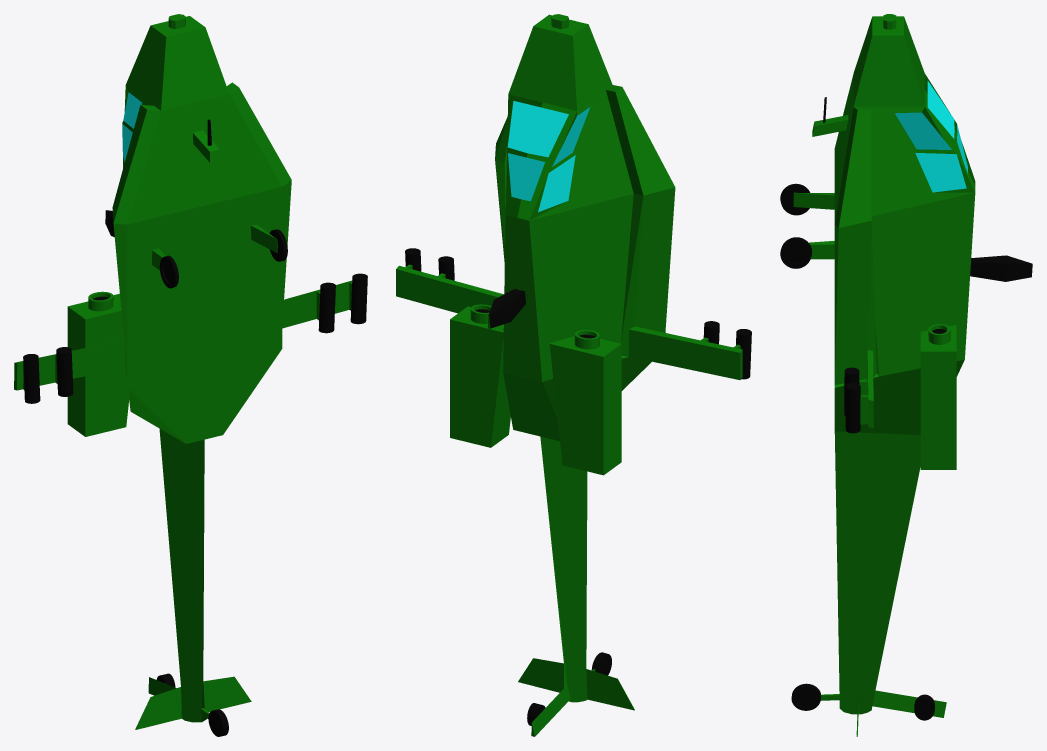
Rendered from Helicopter.fbx.
3 views of the same model, side by side, from view 1: azimuth 30°, elevation 25°; view 2: azimuth 150°, elevation 25°; view 3: azimuth 270°, elevation 25° (orthographic).
Visible parts, largest first — view 1: Helicopter; view 2: Helicopter; view 3: Helicopter.
Boxes of the visible parts, x1=… form: Helicopter: x1=14, y1=14, x2=367, y2=736; Helicopter: x1=396, y1=14, x2=751, y2=736; Helicopter: x1=780, y1=14, x2=1032, y2=736.
Bounding box in the file's own units: 443 × 857 × 280.
